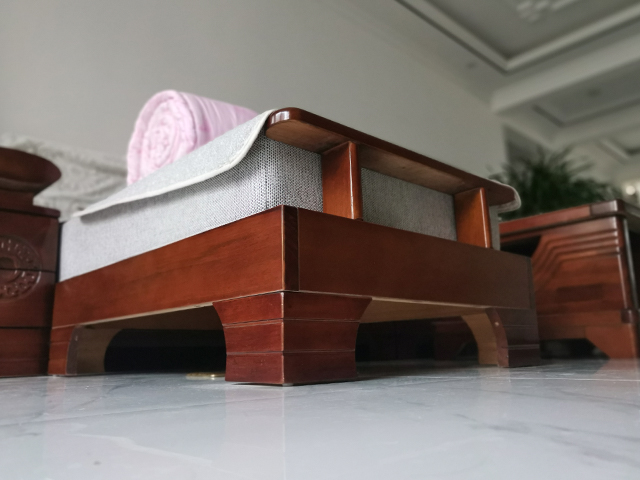sofa: (1, 106, 546, 387)
table: (496, 198, 640, 362)
